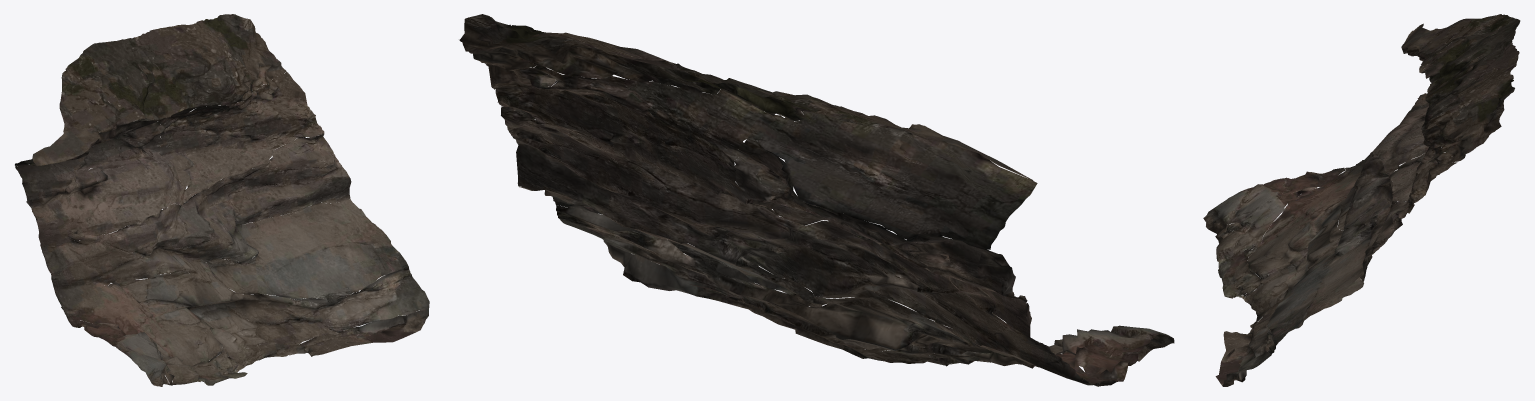
The model's file is kf_rock_face_a_dark.glb.
3 views of the same model, side by side, from view 1: azimuth 30°, elevation 25°; view 2: azimuth 150°, elevation 25°; view 3: azimuth 270°, elevation 25° (orthographic). The views are drawn at different scales.
Visible parts, largest first — view 1: rock_face_01; view 2: rock_face_01; view 3: rock_face_01.
Part boxes in pixels (x1,y1,x2,y2): rock_face_01: (15,14,429,386); rock_face_01: (459,14,1174,386); rock_face_01: (1203,14,1520,386).
Size of what is drawn, in the model's own units: 4.95 by 3.57 by 3.83.
Materials: 1 (1 with a texture image).
